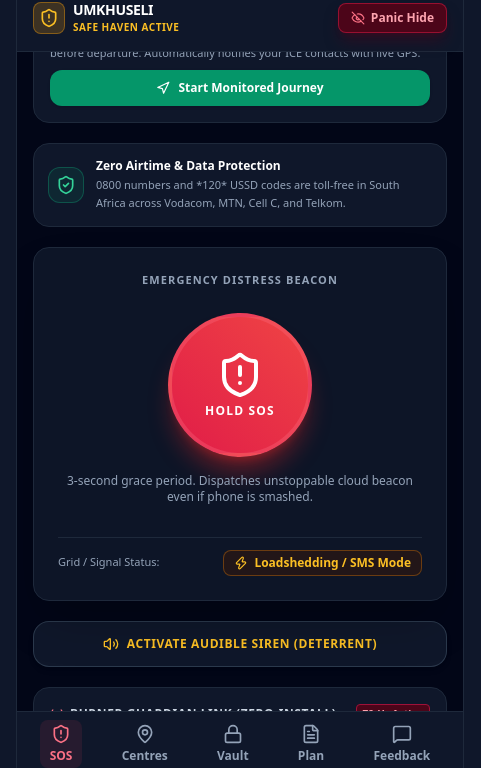
Test: SafeHavenDashboard Component › SOS Emergency Tab › arms SOS and allows canceling before countdown finishes
(page scrolled)
Step 1. Click the button "HOLD SOS" → (240, 384), box [168,312,312,456]
Wait 1000 ms
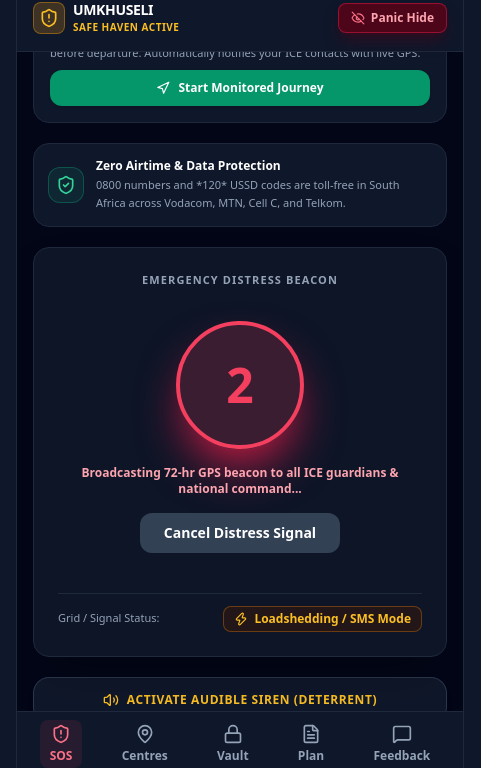
expect the button "Cancel Distress Signal" is shown: met
expect the text "2" is shown: met, box [226,360,254,408]
Step 2. Click the button "Cancel Distress Signal" → (240, 532), box [140,512,340,552]
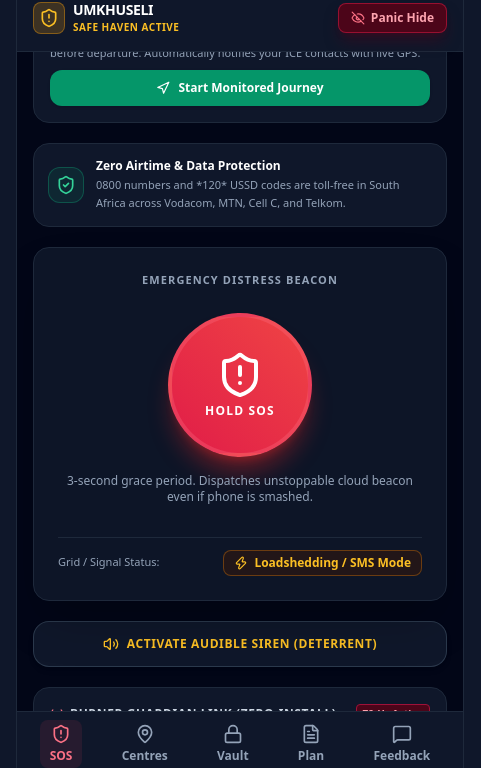
expect the text "HOLD SOS" is shown: met, box [205,402,275,418]
